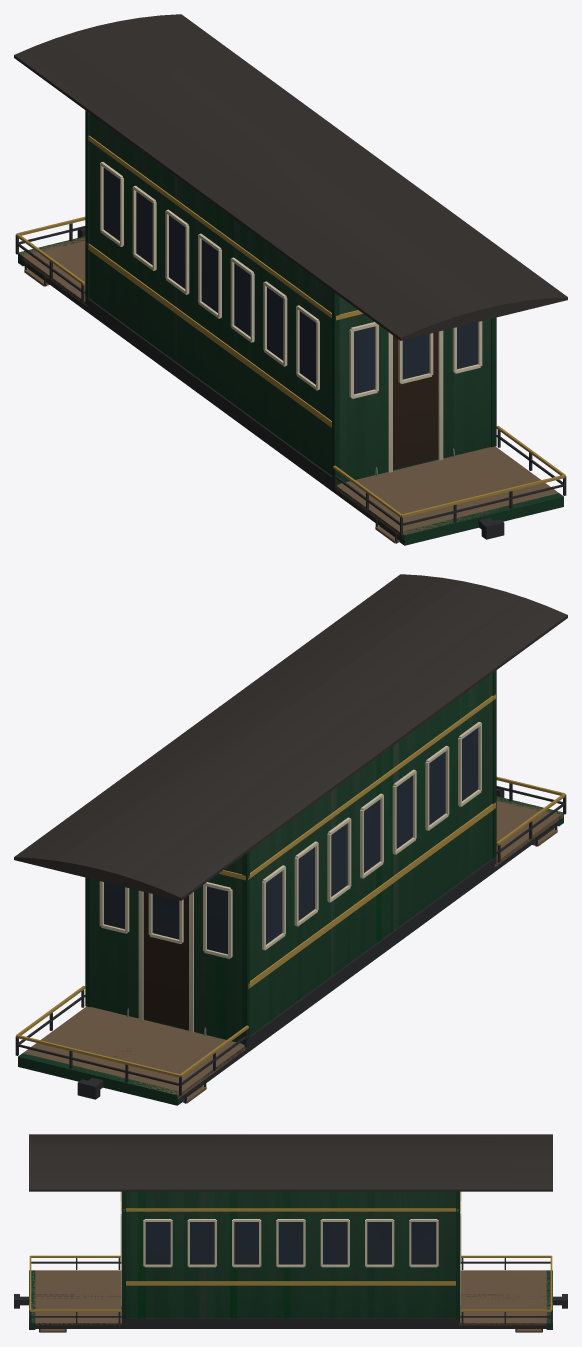
Rendered from coach.glb.
3 views of the same model, one above another, from view 1: azimuth 30°, elevation 25°; view 2: azimuth 150°, elevation 25°; view 3: azimuth 270°, elevation 25° (orthographic). The views are drawn at different scales.
Visible parts, largest first — view 1: Body, Far; view 2: Body, Far; view 3: Body, Far.
Boxes of the visible parts, bbox=[...] form: Body: bbox=[14, 14, 567, 545]; Far: bbox=[89, 114, 488, 481]; Body: bbox=[14, 574, 567, 1105]; Far: bbox=[91, 677, 492, 1043]; Body: bbox=[14, 1134, 567, 1332]; Far: bbox=[126, 1191, 455, 1318].
Size of the model in its own units: 6 by 7.77 by 25.36.
